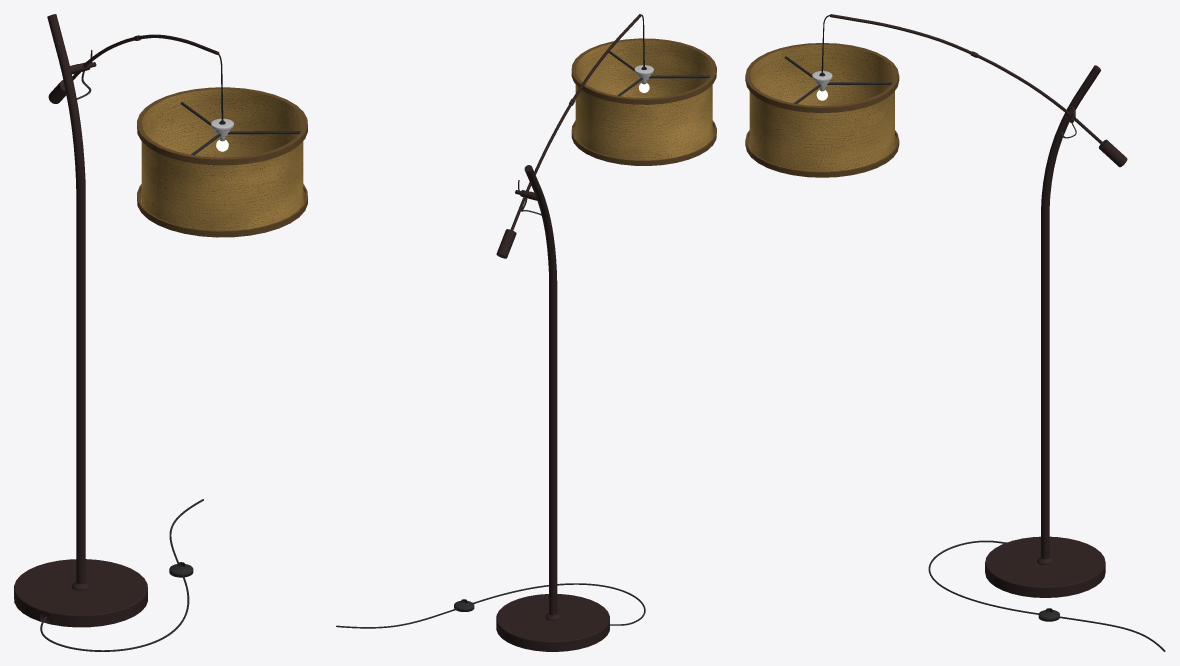
Rendered from lamp.gltf.
3 renders of one model, left to right at view 1: azimuth 30°, elevation 25°; view 2: azimuth 150°, elevation 25°; view 3: azimuth 270°, elevation 25°, orthographic. The views are drawn at different scales.
Visible parts, largest first — view 1: Circle; view 2: Circle; view 3: Circle.
Boxes of the visible parts, box(x1,y1,x2,y2) form: Circle: box(14, 14, 307, 651); Circle: box(336, 14, 716, 651); Circle: box(745, 14, 1165, 651).
Size of the model in its own units: 0.9104 by 2.13 by 1.43.
1 material, 1 textured.
